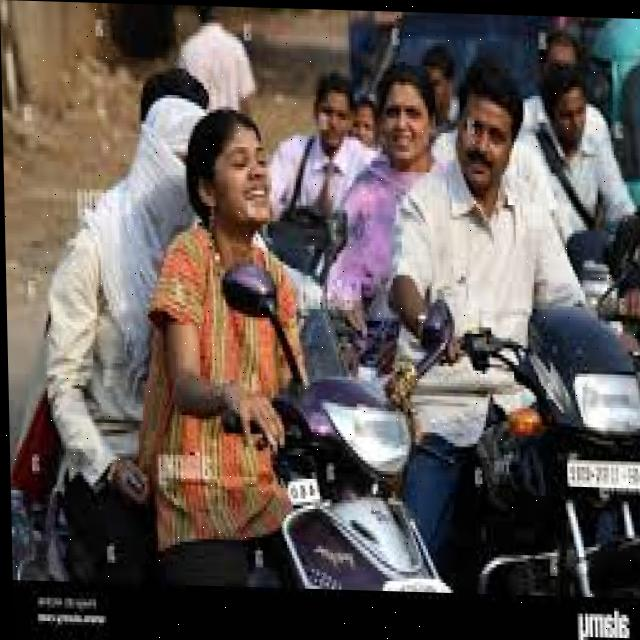without helmet: (171, 88, 273, 263), (438, 49, 531, 181), (366, 53, 443, 186)
